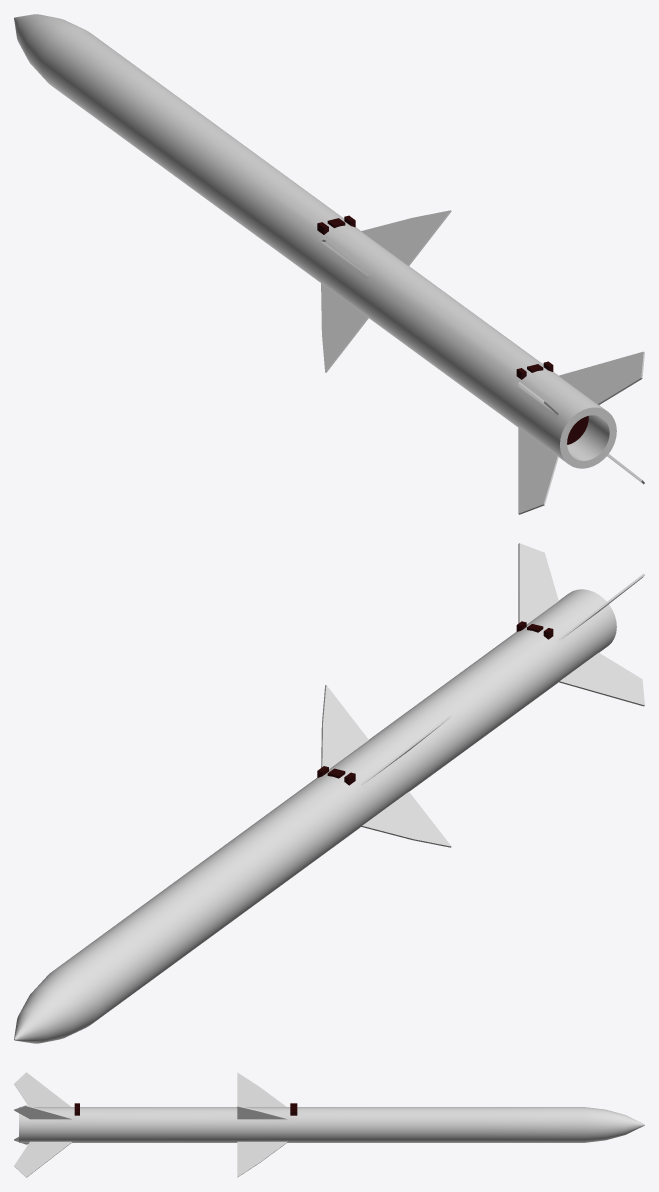
3 views of the same model, one above another, from view 1: azimuth 30°, elevation 25°; view 2: azimuth 150°, elevation 25°; view 3: azimuth 270°, elevation 25° (orthographic). The views are drawn at different scales.
Parts seen in each view (by area): view 1: PL12; view 2: PL12; view 3: PL12.
Part boxes in pixels (x1,y1,x2,y2): PL12: (14,14,644,514); PL12: (14,543,644,1043); PL12: (14,1072,644,1177).
Size of the model in its own units: 49.06 by 49.24 by 388.
